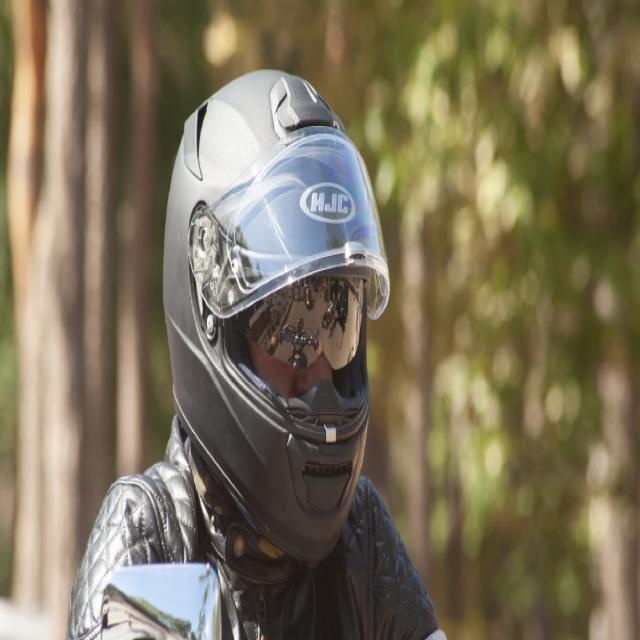Helm: (162, 64, 376, 567)
